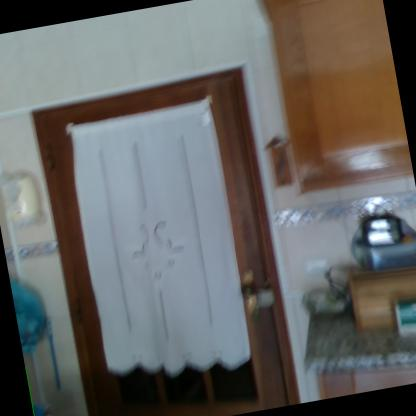closed: (19, 61, 324, 415)
